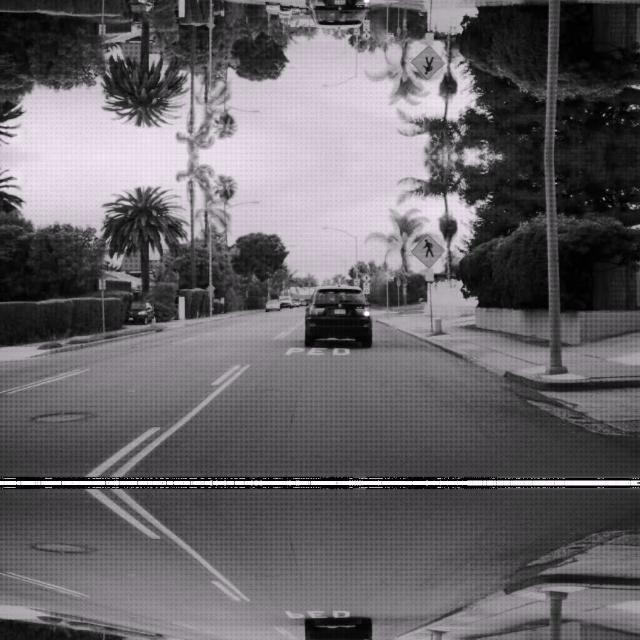pedestrianCrossing: (410, 232, 444, 268), (410, 44, 444, 80)
